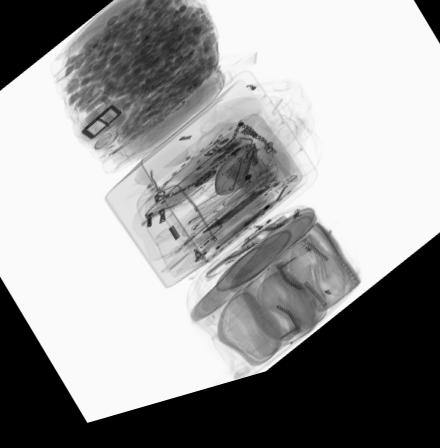Lighter: (170, 18, 189, 41)
